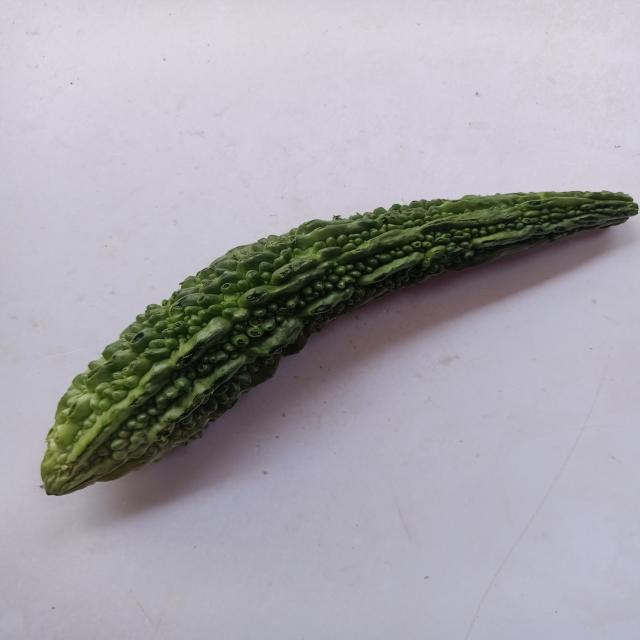Bitter Gourd: (17, 178, 640, 514)
